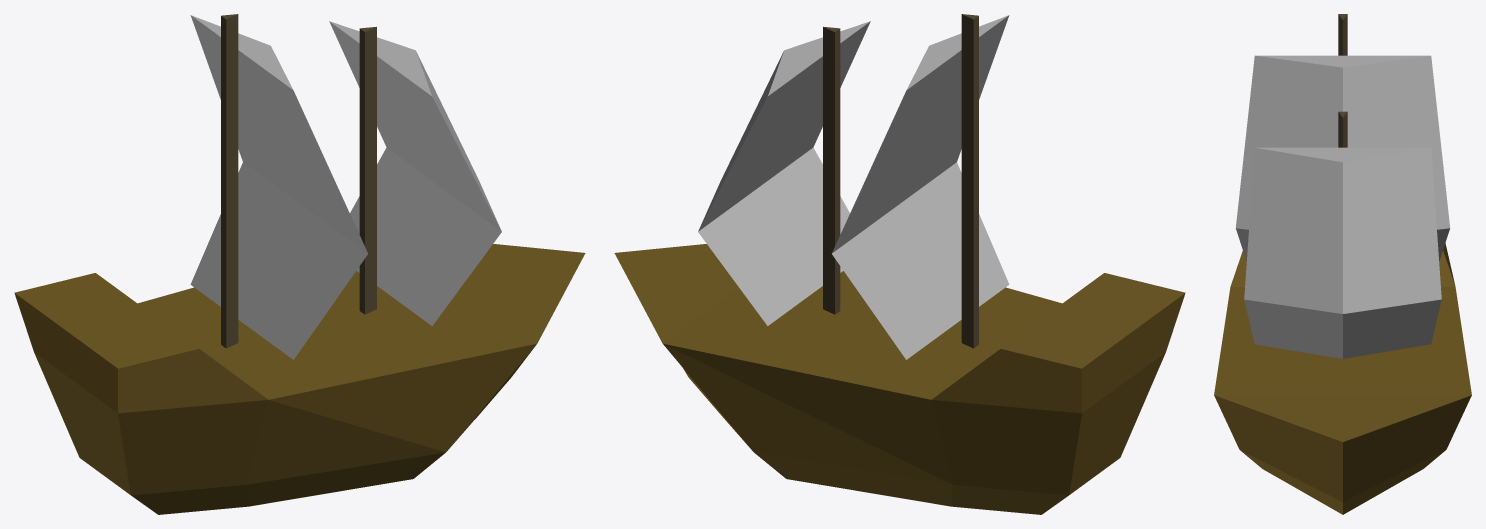
The model's file is pirate-ship-fat.obj.
The picture shows the model from 3 angles, left to right: view 1: azimuth 30°, elevation 25°; view 2: azimuth 150°, elevation 25°; view 3: azimuth 270°, elevation 25°; orthographic projection. The views are drawn at different scales.
Visible parts, largest first — view 1: Hull, Sail0, Sail1, Mast0, Mast1; view 2: Hull, Sail0, Sail1, Mast0, Mast1; view 3: Sail1, Hull, Sail0, Mast0, Mast1.
Boxes of the visible parts, left/top/right/bottom form: Hull: left=14, top=244, right=585, bottom=514; Sail0: left=190, top=15, right=367, bottom=359; Sail1: left=329, top=21, right=501, bottom=325; Mast0: left=221, top=14, right=238, bottom=348; Mast1: left=359, top=26, right=376, bottom=314; Hull: left=614, top=244, right=1185, bottom=514; Sail0: left=832, top=15, right=1009, bottom=359; Sail1: left=698, top=21, right=870, bottom=325; Mast0: left=961, top=14, right=978, bottom=348; Mast1: left=823, top=26, right=840, bottom=314; Sail1: left=1244, top=147, right=1441, bottom=358; Hull: left=1214, top=243, right=1471, bottom=514; Sail0: left=1235, top=55, right=1450, bottom=261; Mast0: left=1338, top=14, right=1347, bottom=55; Mast1: left=1338, top=111, right=1347, bottom=147.
Bounding box in the file's own units: 3.42 × 2.91 × 1.72.
